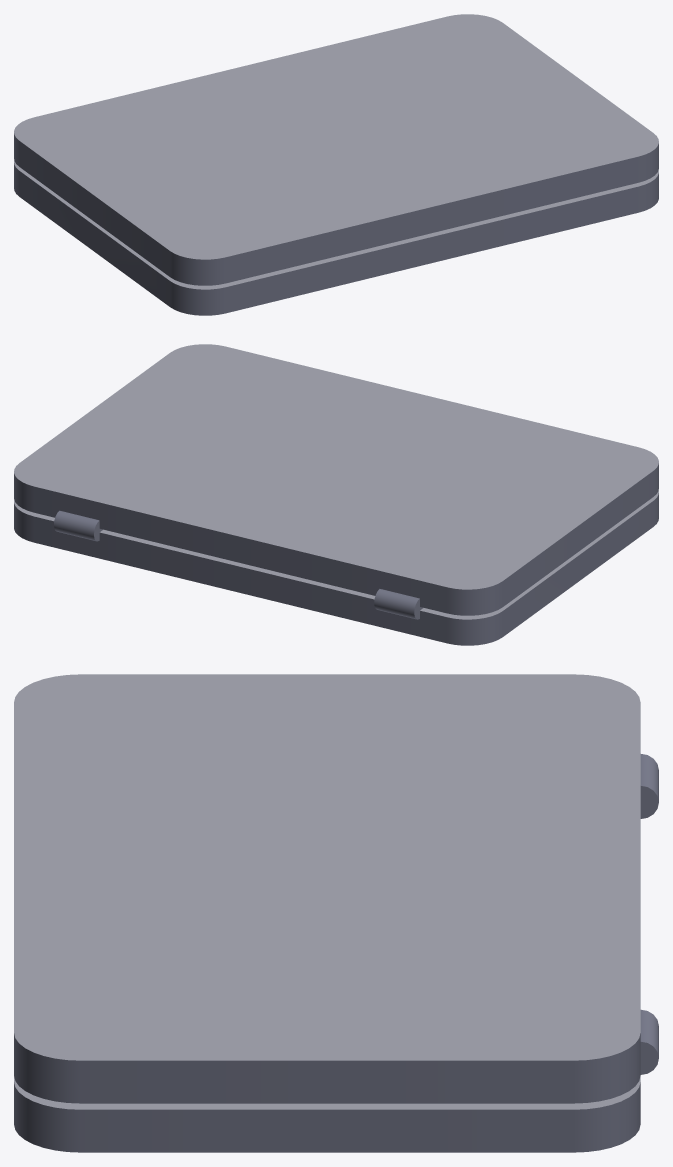
The model's file is Laptop.fbx.
The picture shows the model from 3 angles, top to bottom: view 1: azimuth 30°, elevation 25°; view 2: azimuth 150°, elevation 25°; view 3: azimuth 270°, elevation 25°; orthographic projection. The views are drawn at different scales.
Visible parts, largest first — view 1: Laptop.001, Laptop; view 2: Laptop.001, Laptop; view 3: Laptop.001, Laptop.
Part boxes in pixels (x1=…): Laptop.001: x1=14, y1=14, x2=658, y2=285; Laptop: x1=14, y1=161, x2=658, y2=315; Laptop.001: x1=14, y1=344, x2=658, y2=615; Laptop: x1=14, y1=491, x2=658, y2=645; Laptop.001: x1=14, y1=674, x2=640, y2=1103; Laptop: x1=14, y1=754, x2=658, y2=1152.
Size of the model in its own units: 1.01 by 0.1117 by 0.7105.
